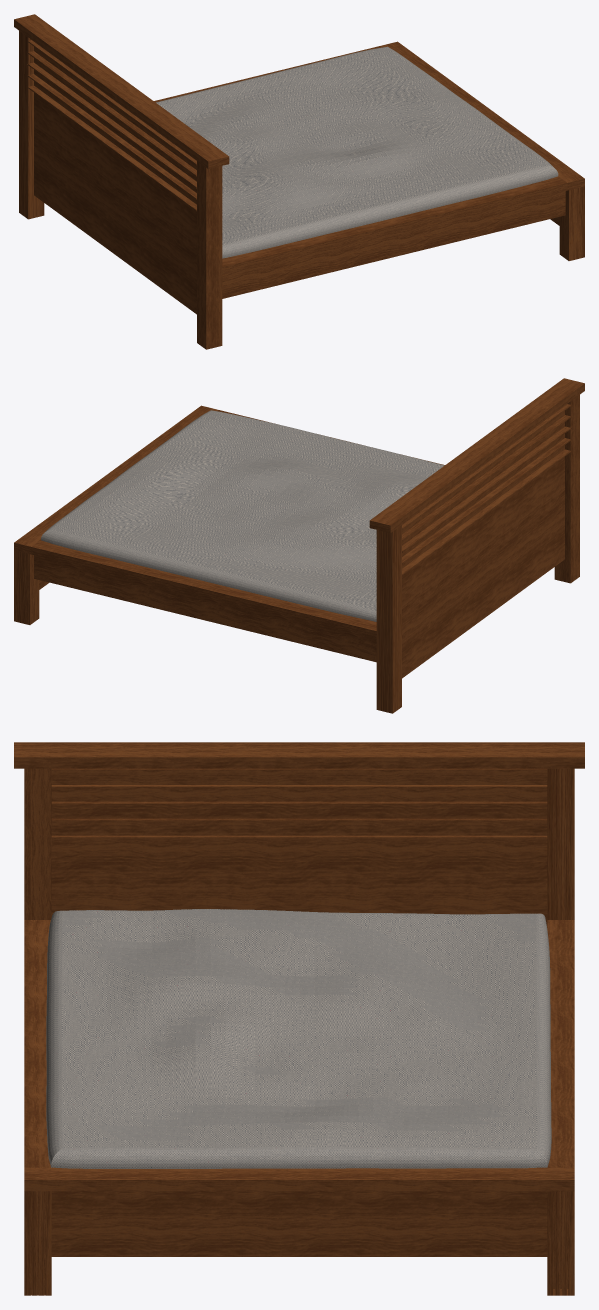
The model's file is cama001.glb.
3 views of the same model, one above another, from view 1: azimuth 30°, elevation 25°; view 2: azimuth 150°, elevation 25°; view 3: azimuth 270°, elevation 25° (orthographic). The views are drawn at different scales.
Parts seen in each view (by area): view 1: Plane, Plane.008, Plane.003, Plane.007, Plane.001, Cube.001, Cube.003, Plane.005, Cube, Plane.002; view 2: Plane, Plane.008, Plane.004, Plane.007, Plane.002, Cube.003, Cube.001, Plane.005, Cube.002; view 3: Plane, Plane.008, Plane.006, Plane.007, Plane.005, Plane.002, Plane.001, Cube.001, Cube.003, Cube, Cube.002.
Boxes of the visible parts, box(x1,y1,x2,y2) form: Plane: box(156, 46, 558, 258); Plane.008: box(27, 40, 196, 314); Plane.003: box(222, 191, 565, 298); Plane.007: box(14, 14, 229, 168); Plane.001: box(222, 176, 567, 274); Cube.001: box(197, 161, 222, 349); Cube.003: box(19, 31, 44, 219); Plane.005: box(381, 41, 584, 190); Cube: box(559, 186, 584, 260); Plane.002: box(154, 46, 381, 102); Plane: box(41, 410, 444, 621); Plane.008: box(402, 404, 571, 678); Plane.004: box(34, 555, 376, 662); Plane.007: box(369, 378, 584, 532); Plane.002: box(31, 540, 376, 638); Cube.003: box(376, 525, 401, 713); Cube.001: box(554, 395, 579, 583); Plane.005: box(14, 405, 217, 554); Cube.002: box(14, 550, 39, 624); Plane: box(46, 909, 551, 1168); Plane.008: box(51, 768, 547, 927); Plane.006: box(51, 1191, 547, 1256); Plane.007: box(14, 742, 584, 768); Plane.005: box(24, 1167, 574, 1191); Plane.002: box(547, 920, 574, 1167); Plane.001: box(24, 920, 50, 1167); Cube.001: box(24, 768, 51, 919); Cube.003: box(547, 768, 574, 919); Cube: box(24, 1191, 51, 1295); Cube.002: box(547, 1191, 574, 1295).
Bounding box in the file's own units: 2.1 × 1.01 × 1.86.
Materials: 2 (2 with a texture image).
